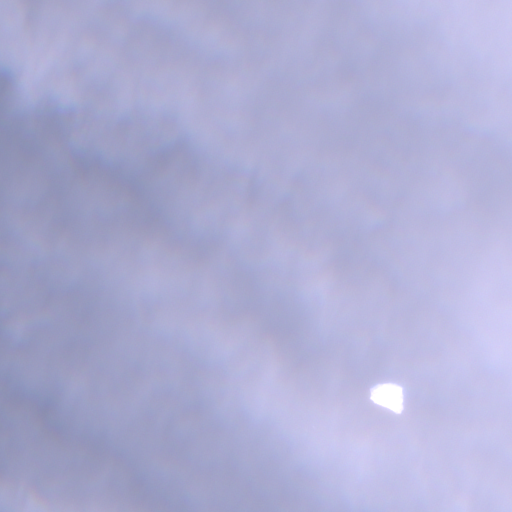Iceberg: (369, 384, 402, 413)
